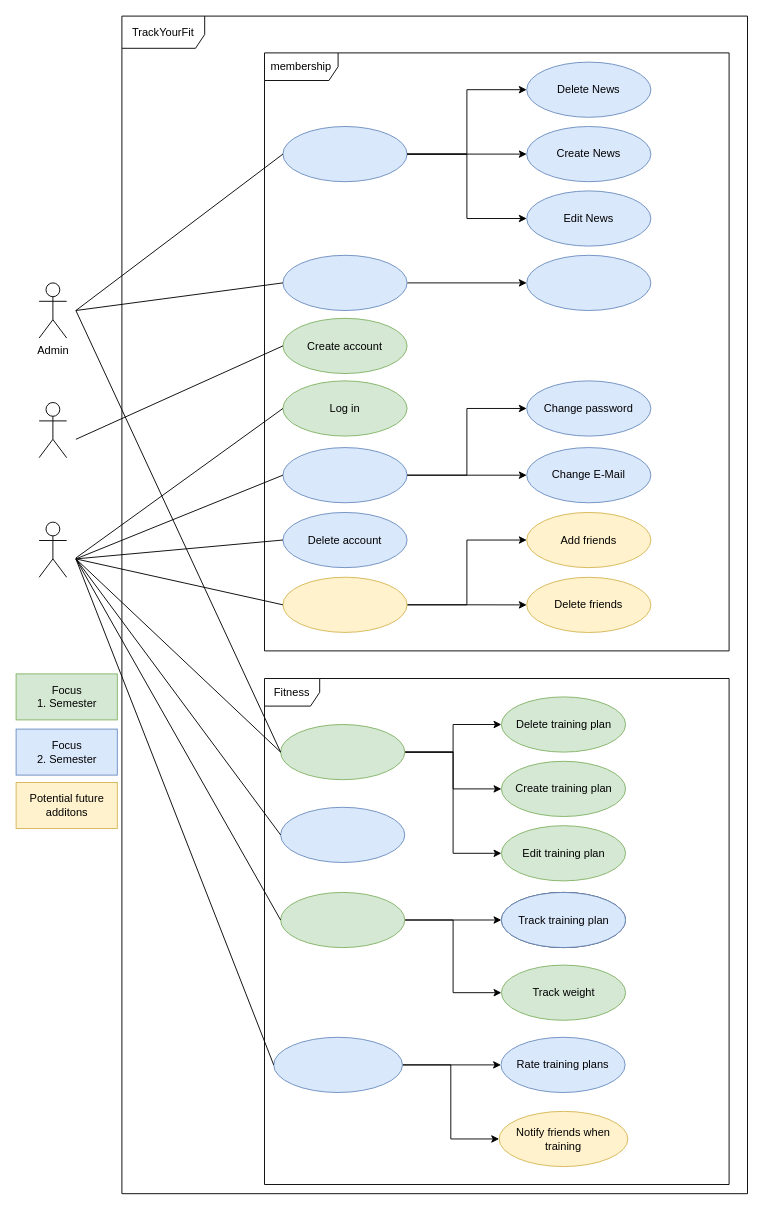
Some shapes in this 764 by 1210 pixel diagram are drawn without their labels. Here are the shapes that lost their labels. From the top down, the centre of each, then its label:
(x=344, y=154): Manage News
(x=344, y=282): Manage all users
(x=588, y=282): Delete users
(x=52, y=430): Guest
(x=344, y=475): Edit account
(x=52, y=549): User
(x=344, y=604): Manage friends
(x=342, y=752): Manage training plan
(x=342, y=834): View stats
(x=342, y=919): Track health
(x=337, y=1064): Interact with users
